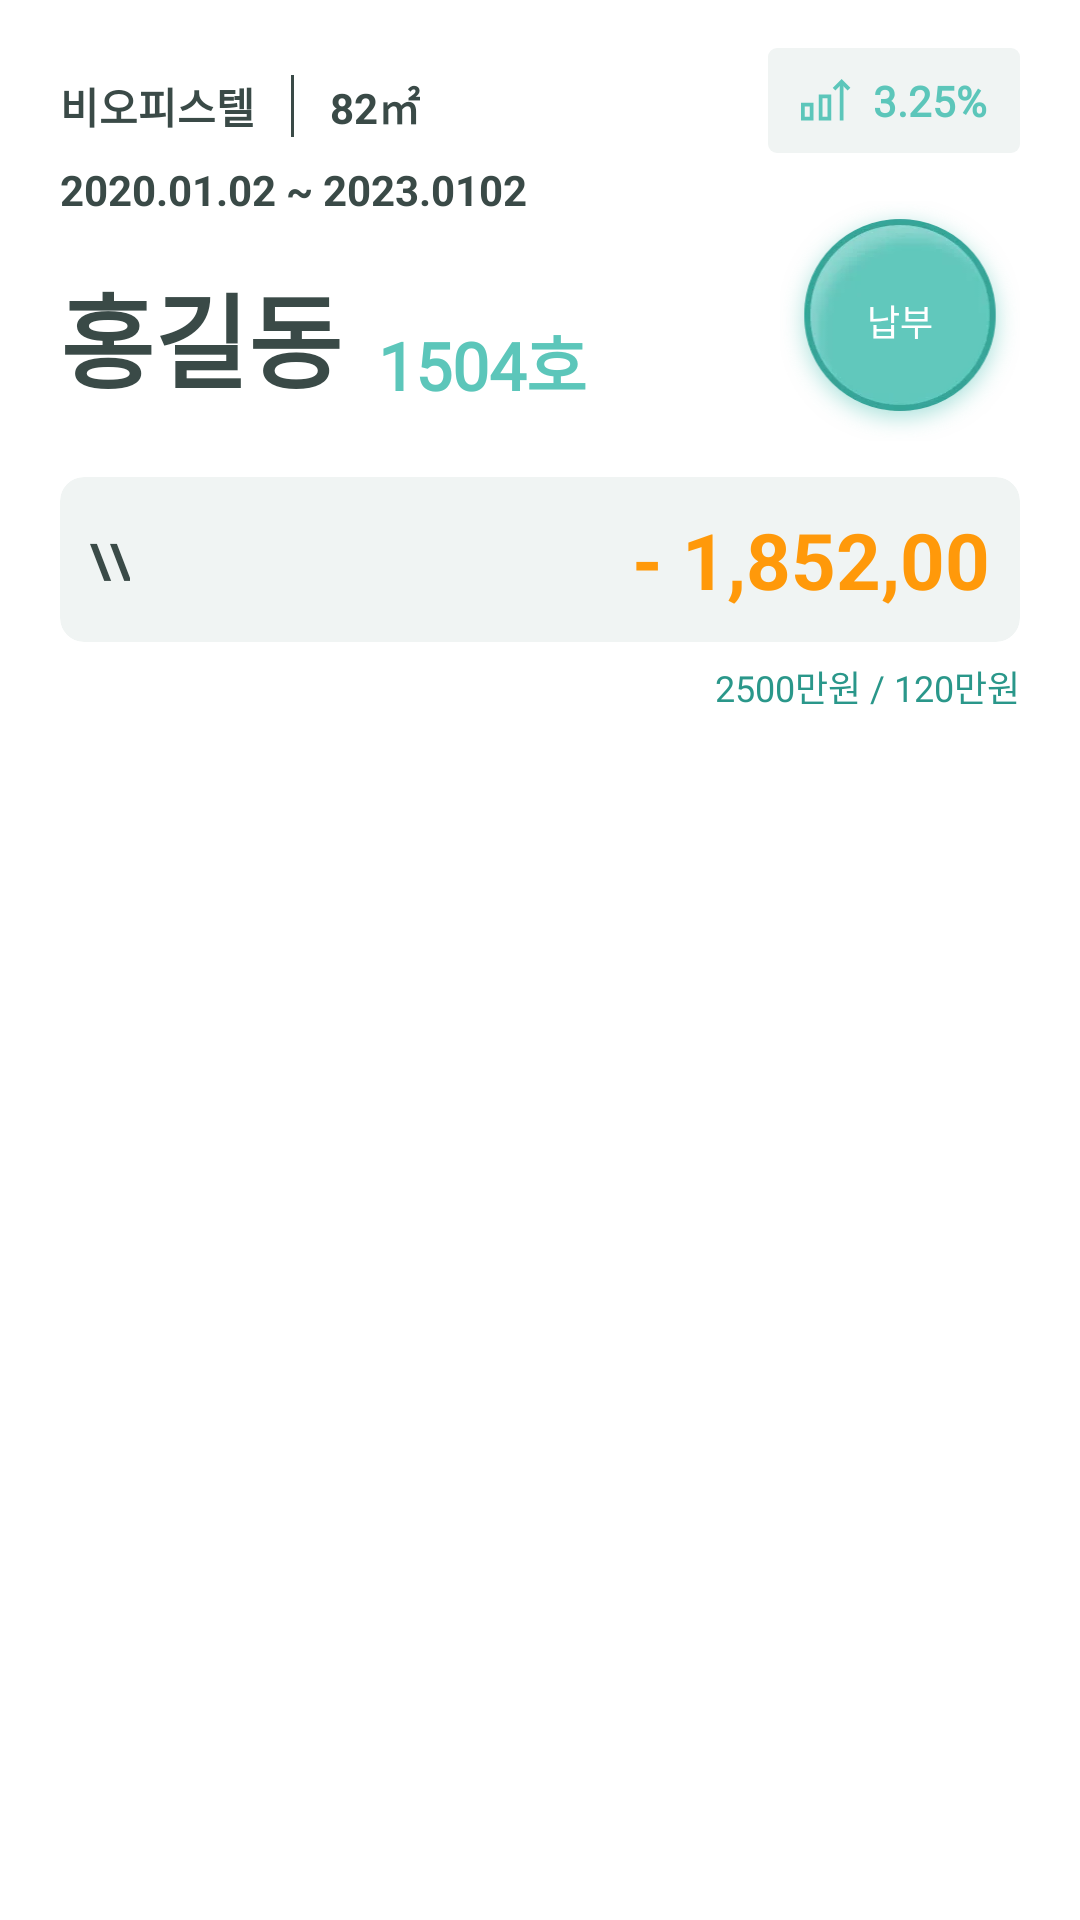

Named icons in this screenshot (1080px x 1920px) and their bounding boxes, (x1, y1, x2, y2):
chart: (801, 79, 850, 121)
